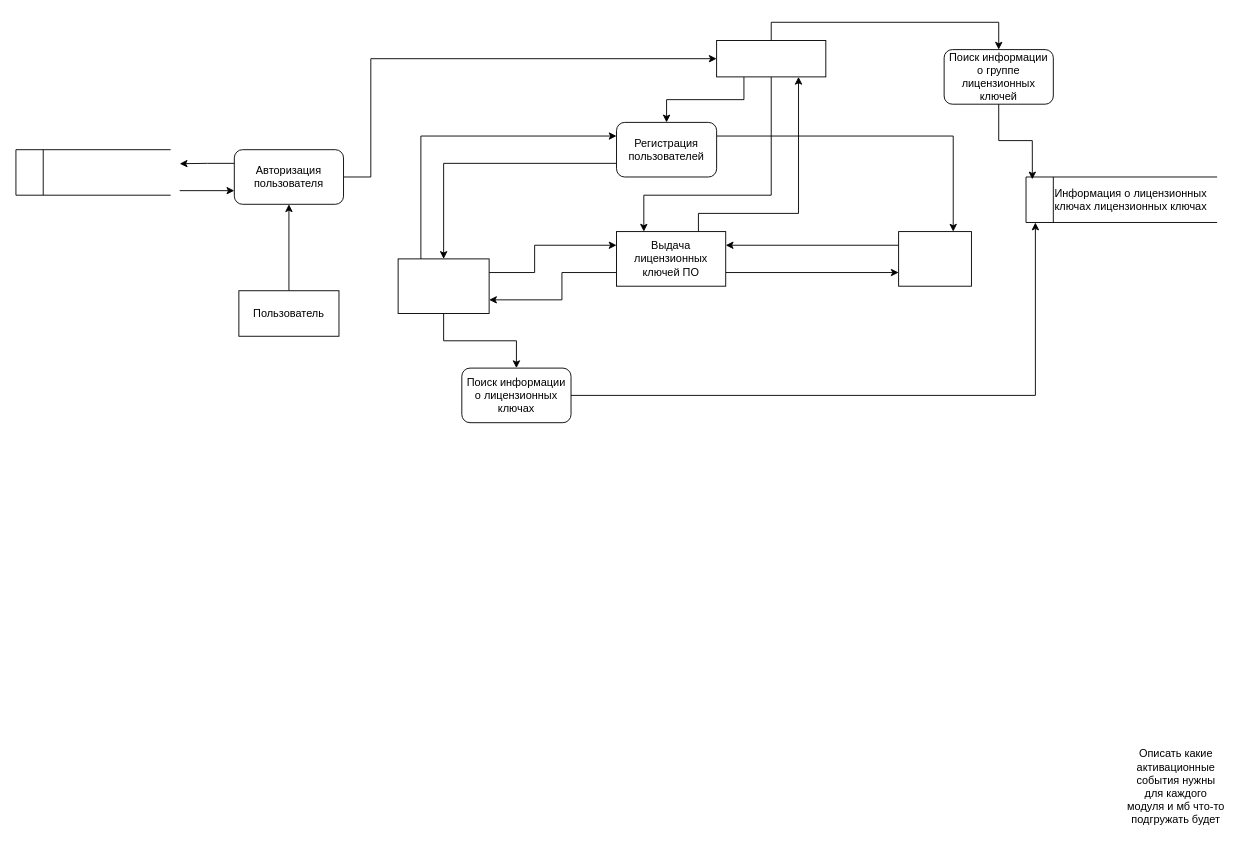
The diagram is 1242 pixels wide and 857 high, and some of its shapes have lost their labels. Each missing label, with the centre of its shape:
Администратор: pixel 771 58
Данные пользователей: pixel 93 172
Преподаватель: pixel 443 285
Студент: pixel 934 258
